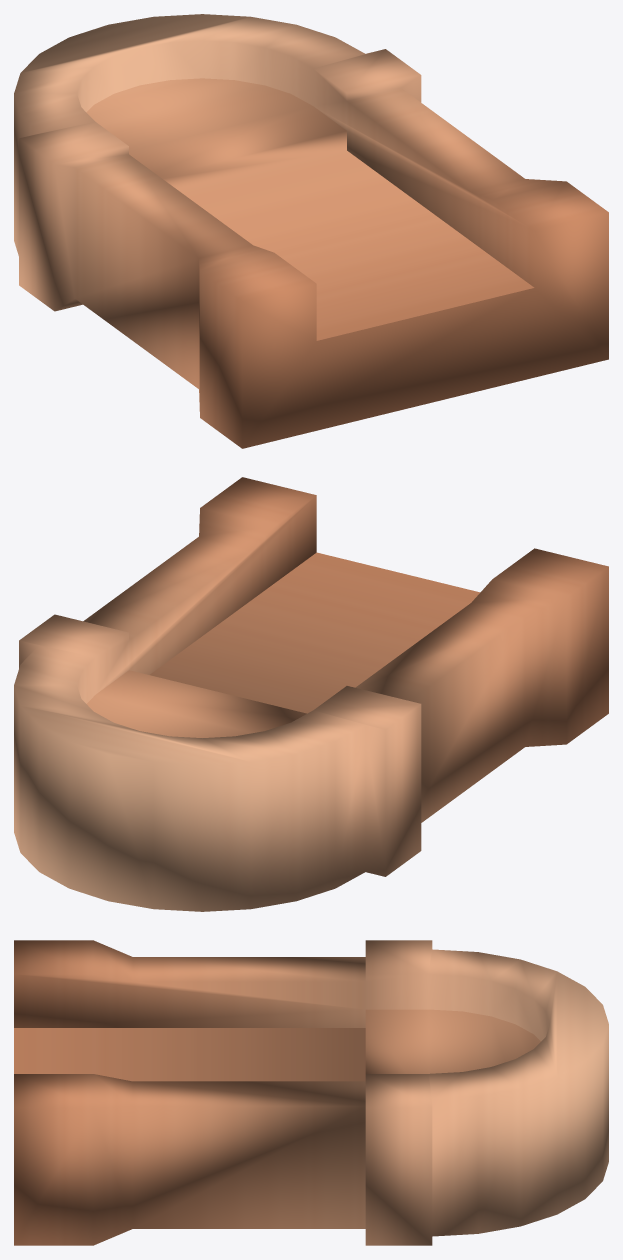
Rendered from gravestone-round.obj.
3 views of the same model, one above another, from view 1: azimuth 30°, elevation 25°; view 2: azimuth 150°, elevation 25°; view 3: azimuth 270°, elevation 25° (orthographic). The views are drawn at different scales.
Visible parts, largest first — view 1: gravestone-round.005; view 2: gravestone-round.005; view 3: gravestone-round.005.
Boxes of the visible parts, x1,y1,x2,y2 form: gravestone-round.005: [14, 14, 608, 448]; gravestone-round.005: [14, 477, 608, 911]; gravestone-round.005: [14, 940, 608, 1245].
Bounding box in the file's own units: 0.39 × 0.1495 × 0.585.
